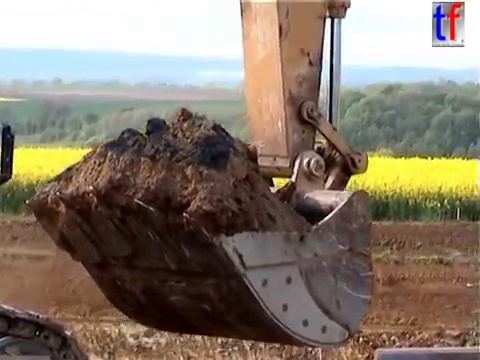excavator: (1, 1, 378, 360)
truck: (371, 343, 480, 360)
